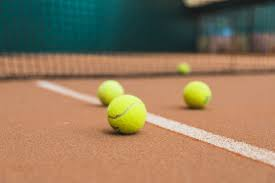tennis_ball: (106, 93, 147, 137), (181, 79, 212, 110), (96, 78, 124, 107), (176, 61, 191, 77)
